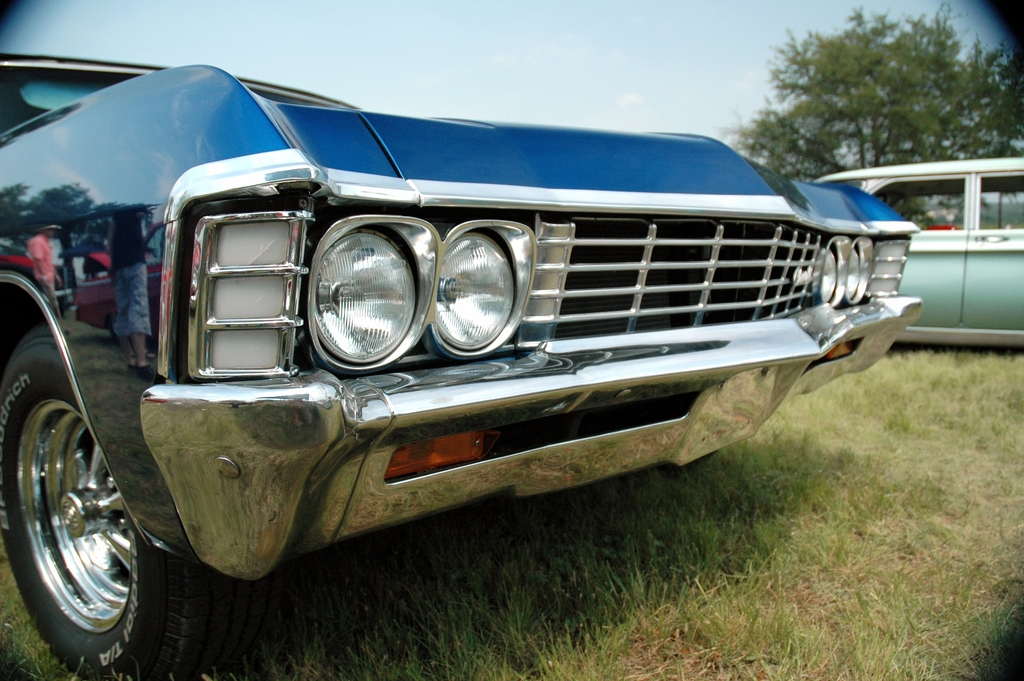Car: (0, 51, 929, 680), (814, 156, 1023, 352)
